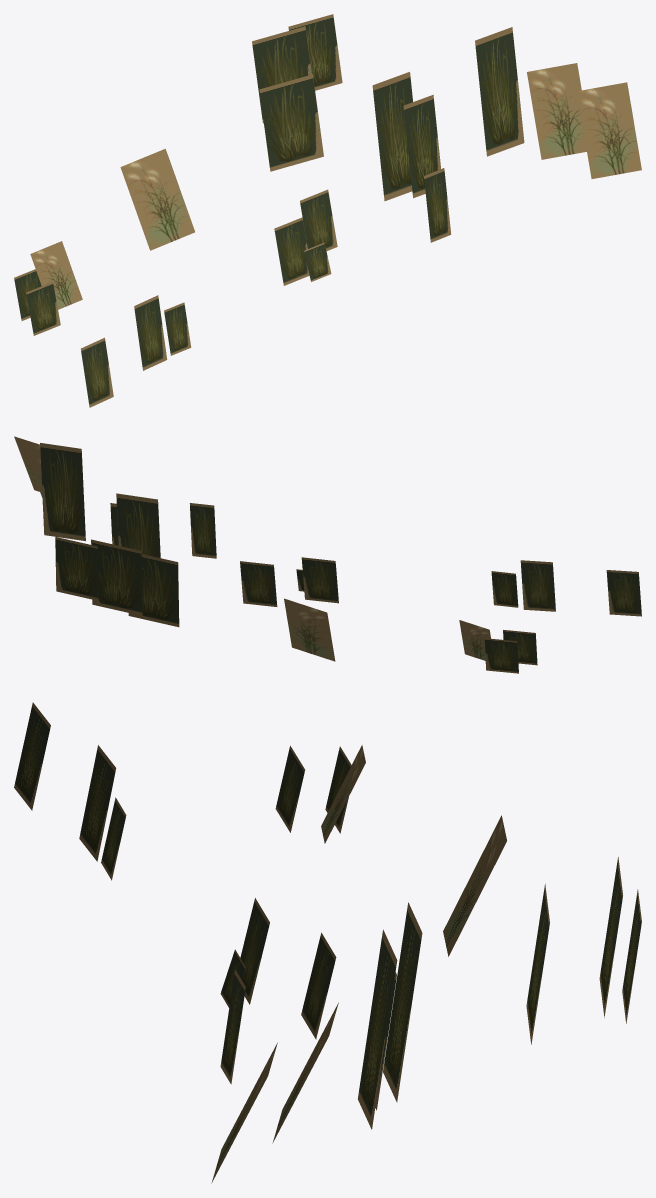
The model's file is object_grass_polys12.fbx.
The picture shows the model from 3 angles, top to bottom: view 1: azimuth 30°, elevation 25°; view 2: azimuth 150°, elevation 25°; view 3: azimuth 270°, elevation 25°; orthographic projection. The views are drawn at different scales.
Visible parts, largest first — view 1: Material_#238683980/town_grass_mat; view 2: Material_#238683980/town_grass_mat; view 3: Material_#238683980/town_grass_mat.
Boxes of the visible parts, x1=… form: Material_#238683980/town_grass_mat: x1=14, y1=14, x2=641, y2=407; Material_#238683980/town_grass_mat: x1=14, y1=436, x2=641, y2=673; Material_#238683980/town_grass_mat: x1=14, y1=702, x2=641, y2=1183.
Size of the model in its own units: 20.23 by 4.79 by 11.67.
